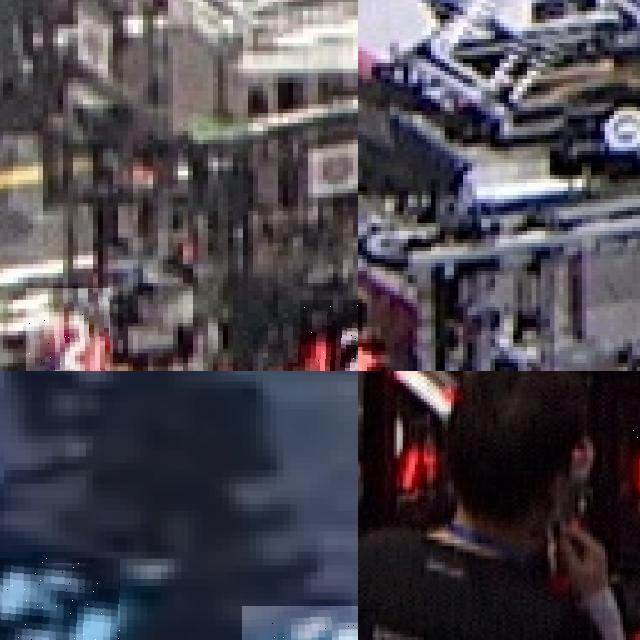B5: (0, 558, 120, 640), (242, 606, 358, 640)
R2: (25, 288, 110, 371), (300, 299, 358, 371)
